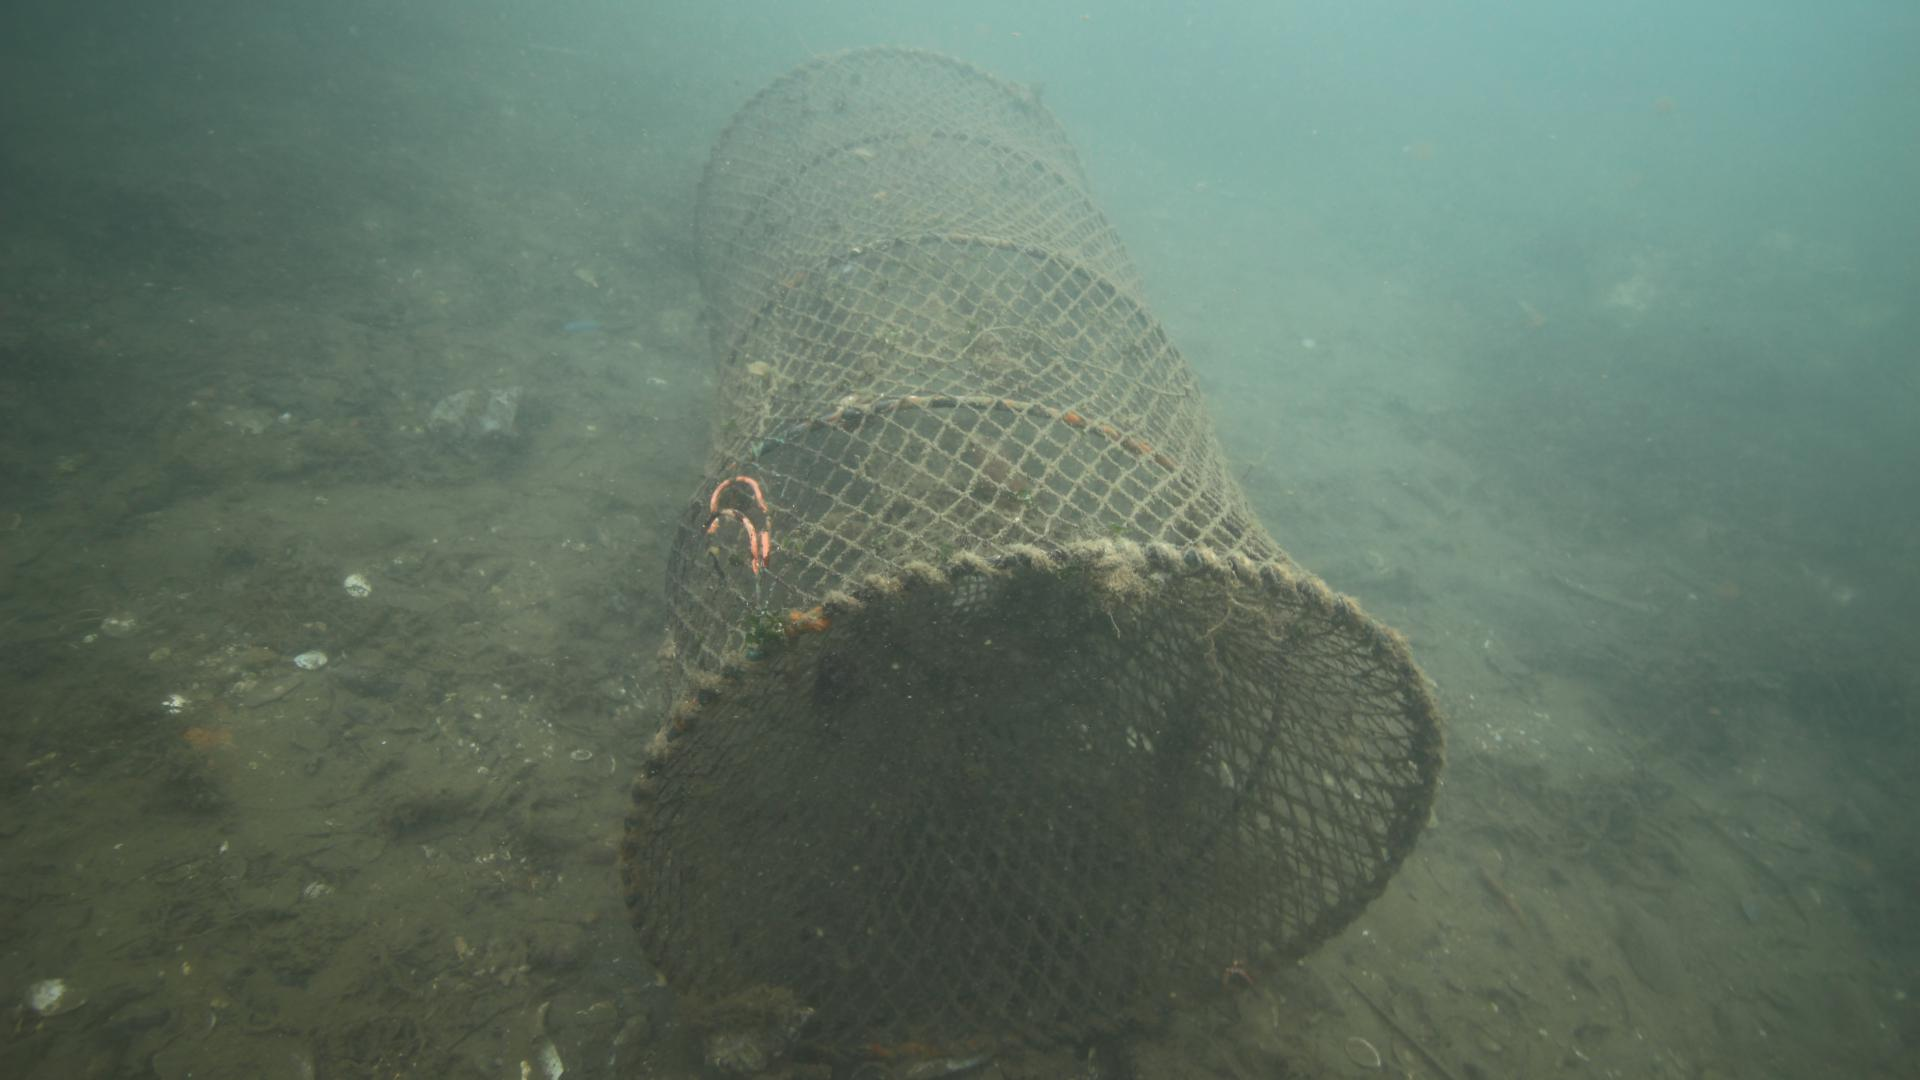spring fish trap: (615, 46, 1443, 1063)
